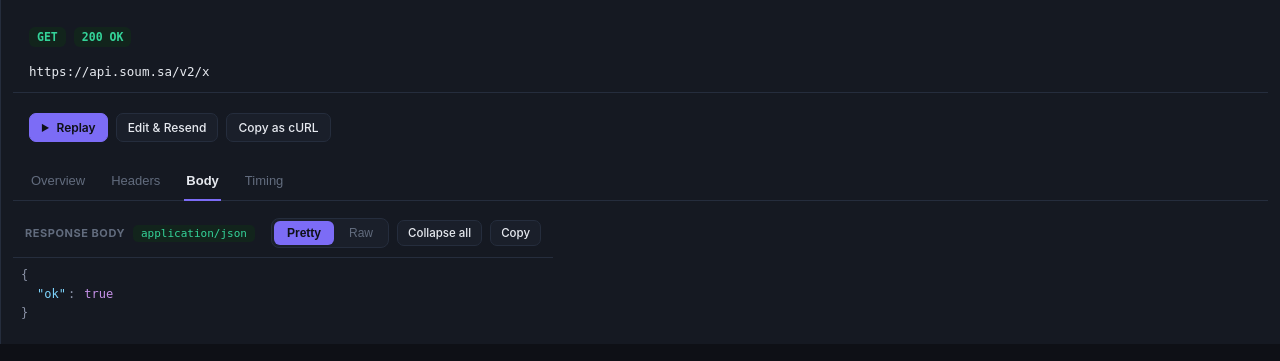
DetailPane tabs › switching to Headers shows a header name
Click the button "Headers".
click(136, 182)  # box [109,162,162,201]
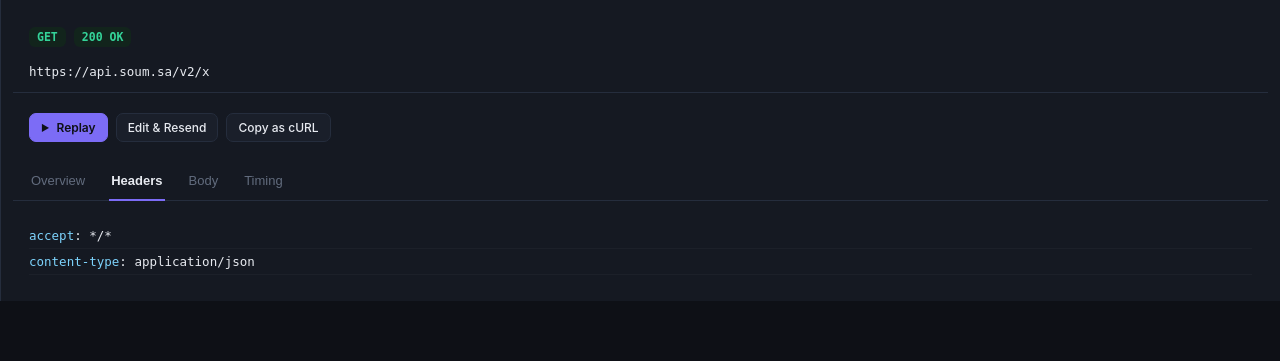
Check: the text "content-type" is shown, box [29,254,119,269]
